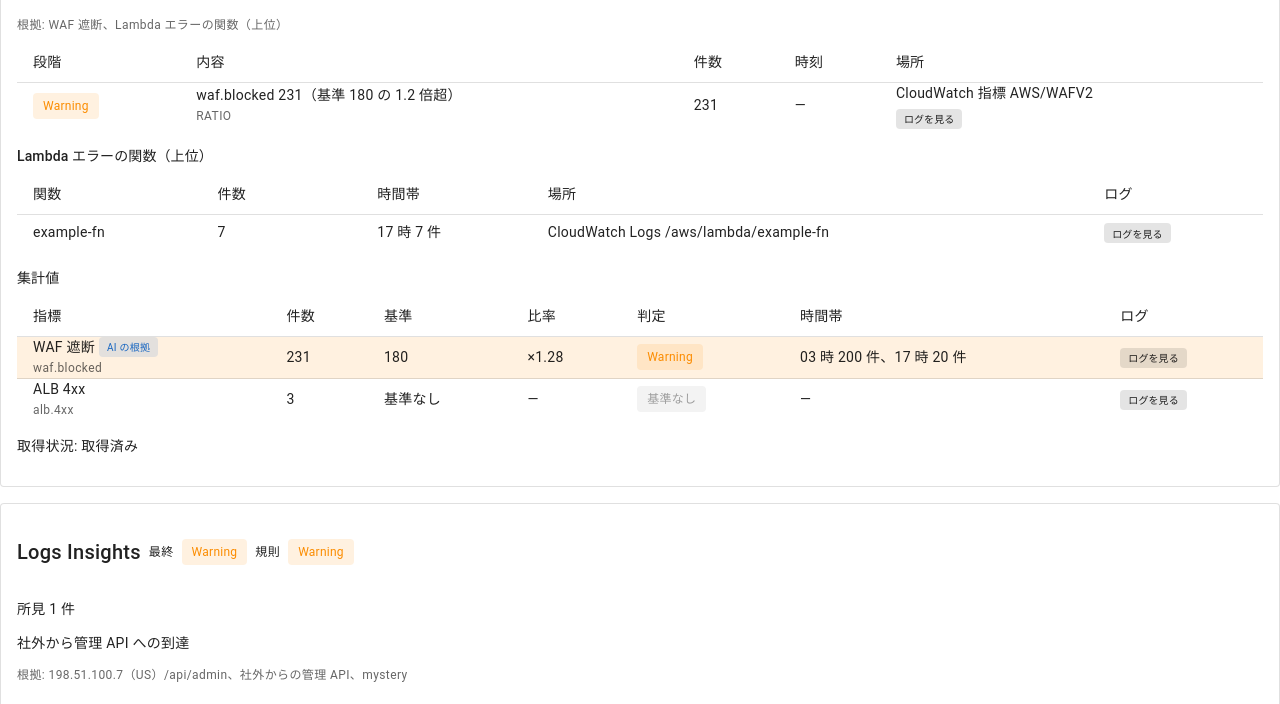
「ログを見る」（v2.1 第 2 段階） › 上位表と集計値のボタンも同じダイアログを使い回し、それぞれの参照で問い合わせる
(page scrolled)
Click the button with test id "log-button" in the row of "×1.28". click: (1154, 358)
box: [1120,348,1187,368]
(page scrolled)
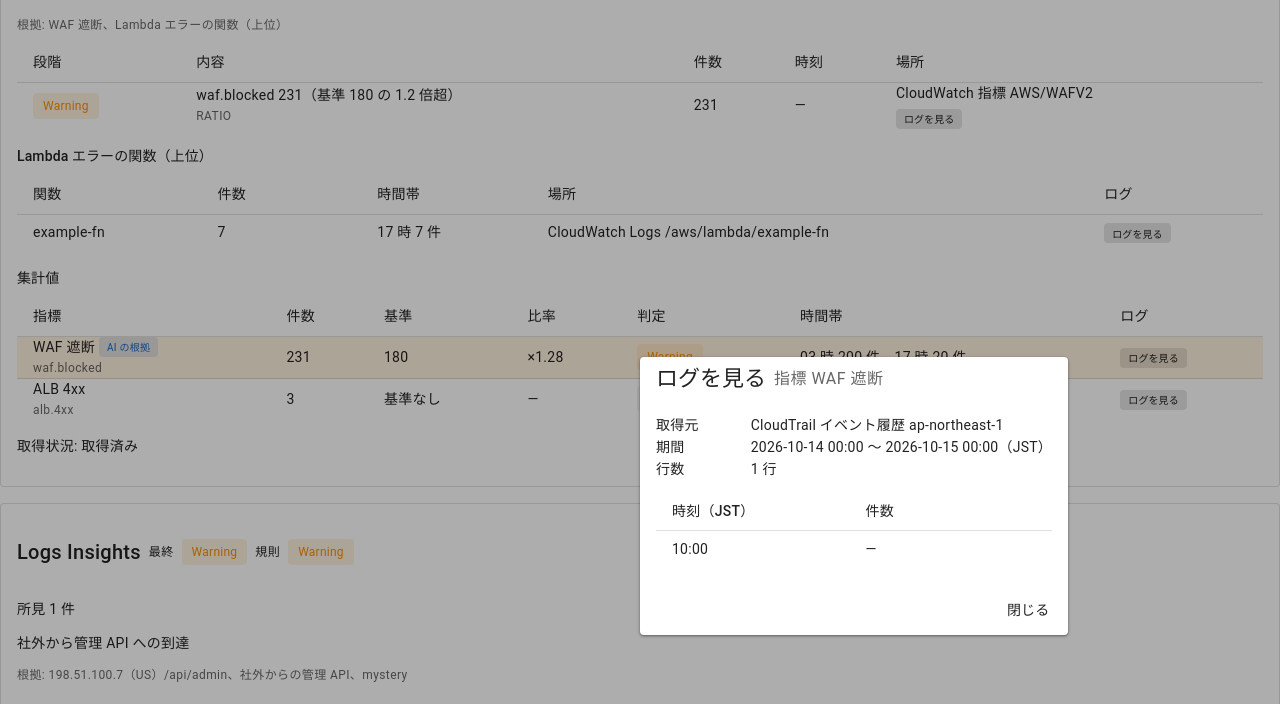
Click the button with test id "log-close". click: (1028, 609)
box: [996,591,1060,627]
(page scrolled)
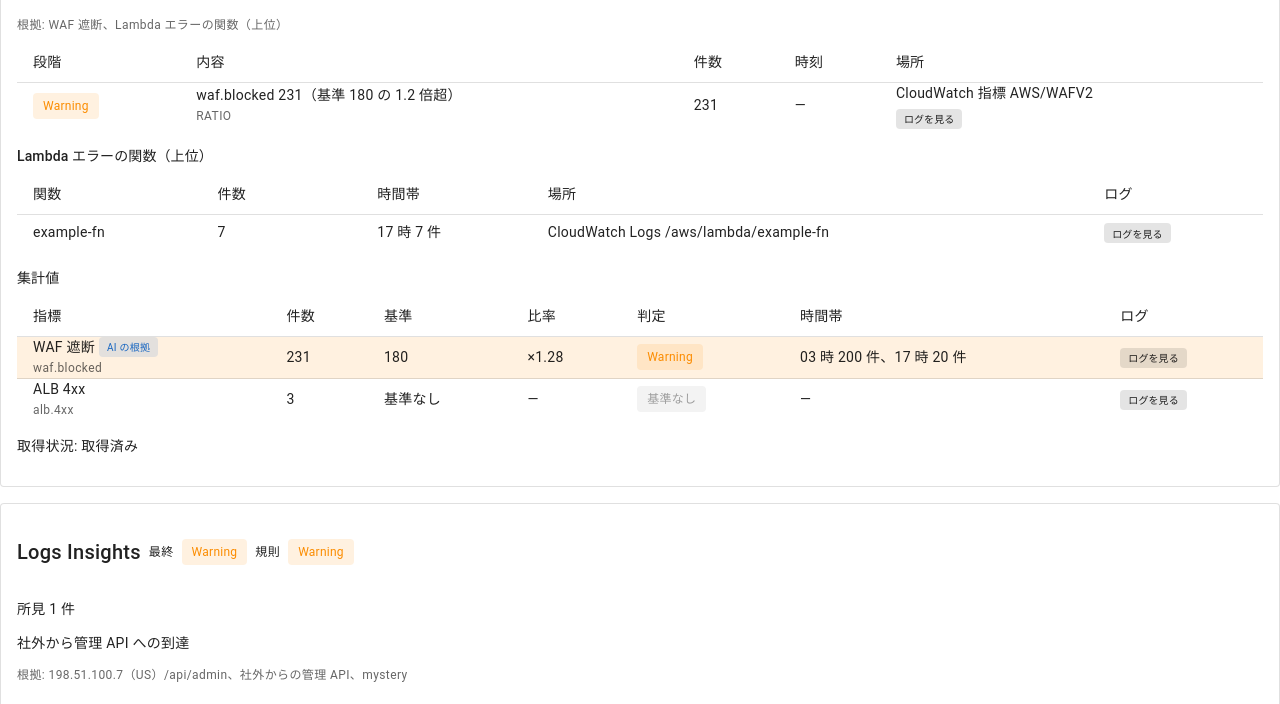
Click the button with test id "log-button" in the row of "17 時 7 件". click: (1137, 233)
box: [1104,223,1171,243]
(page scrolled)
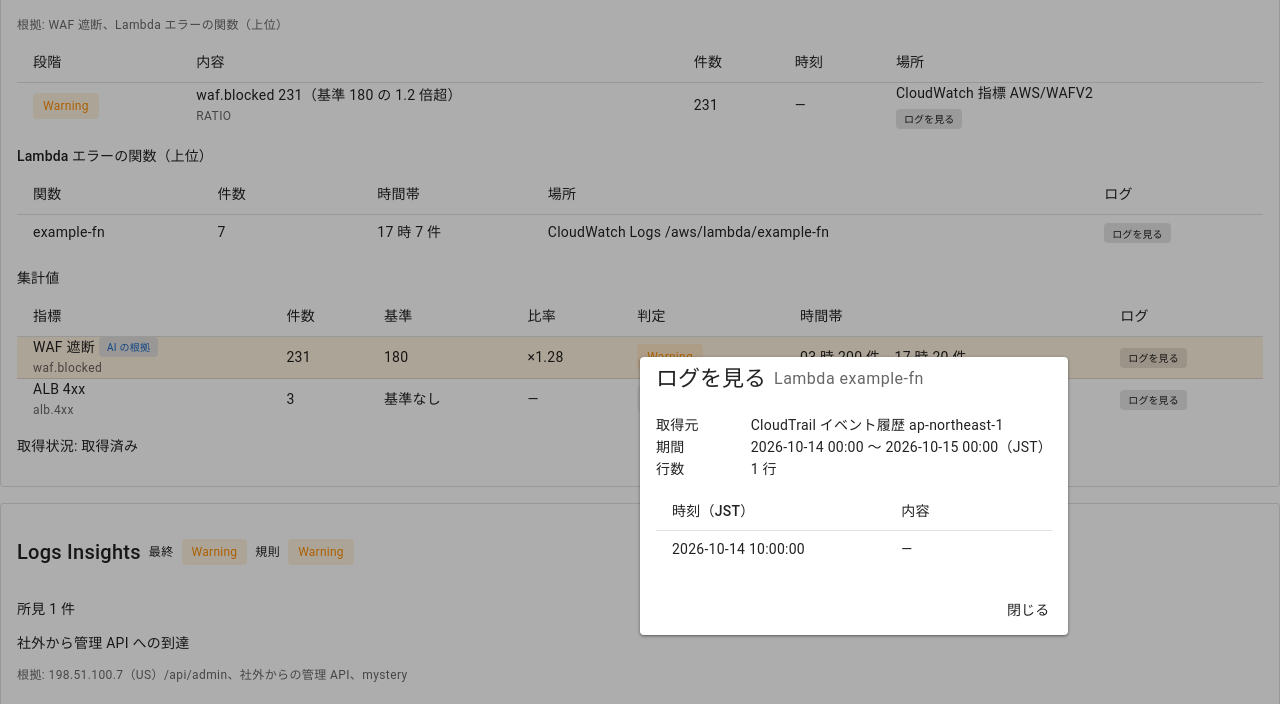
Result: the number of elements with test id "log-dialog" is 1 at [640,357,1068,635]
